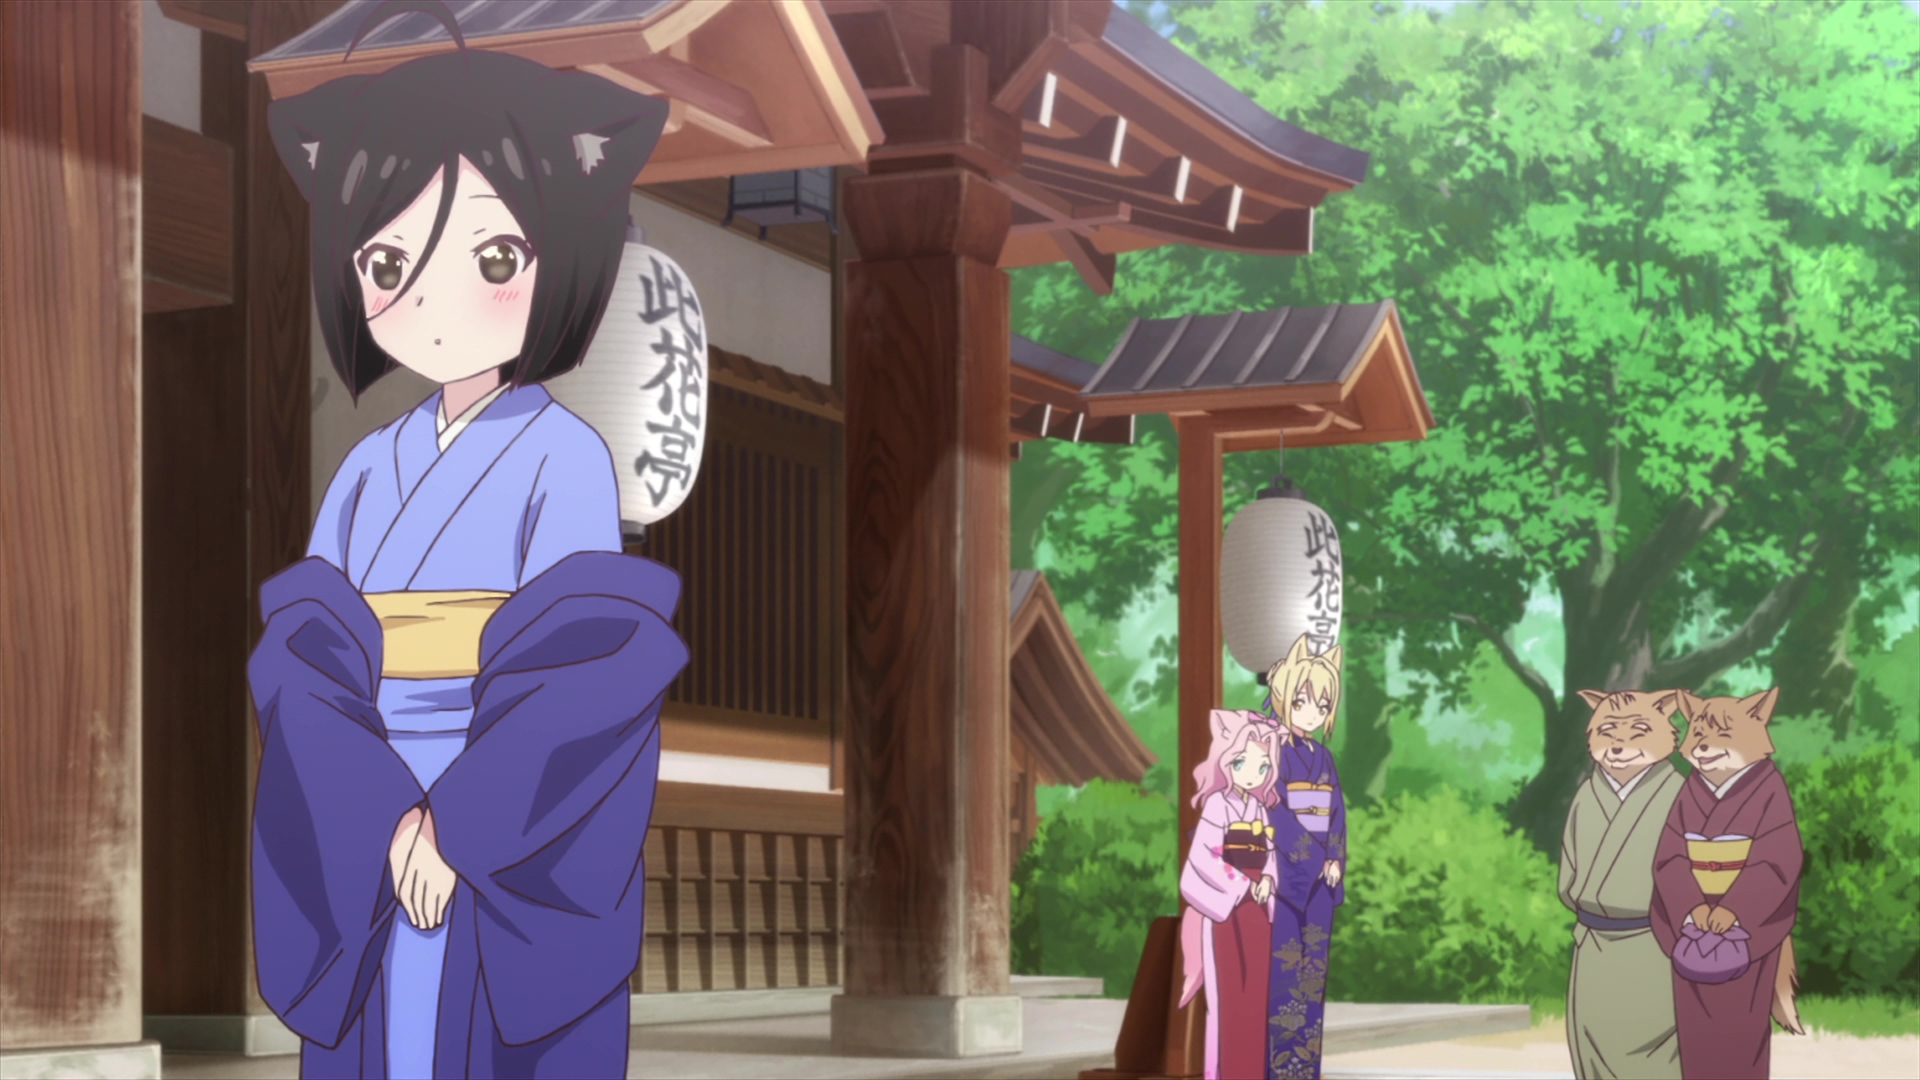其他: (241, 1, 674, 1080), (1648, 691, 1801, 1080), (1557, 687, 1685, 1080)
桐: (1265, 636, 1346, 1080)
莲: (1180, 708, 1280, 1080)
